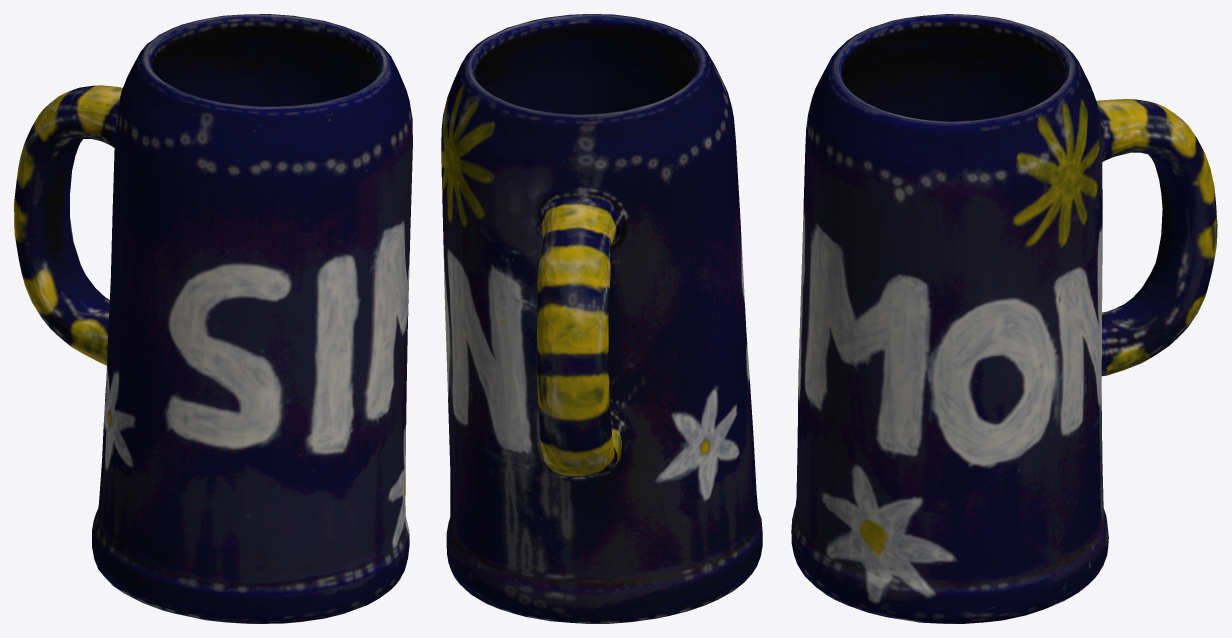
The model's file is 5D0C7D9A-A56E-724A-B47F-CDD7E73E2263_2k.glb.
3 views of the same model, side by side, from view 1: azimuth 30°, elevation 25°; view 2: azimuth 150°, elevation 25°; view 3: azimuth 270°, elevation 25° (orthographic).
Visible parts, largest first — view 1: Krug Blau_6k_2k; view 2: Krug Blau_6k_2k; view 3: Krug Blau_6k_2k.
Boxes of the visible parts, x1,y1,x2,y2 form: Krug Blau_6k_2k: (14, 14, 412, 623); Krug Blau_6k_2k: (441, 14, 762, 623); Krug Blau_6k_2k: (791, 14, 1217, 623).
Size of the model in its own units: 0.1164 by 0.2005 by 0.1529.
1 material, 1 textured.
